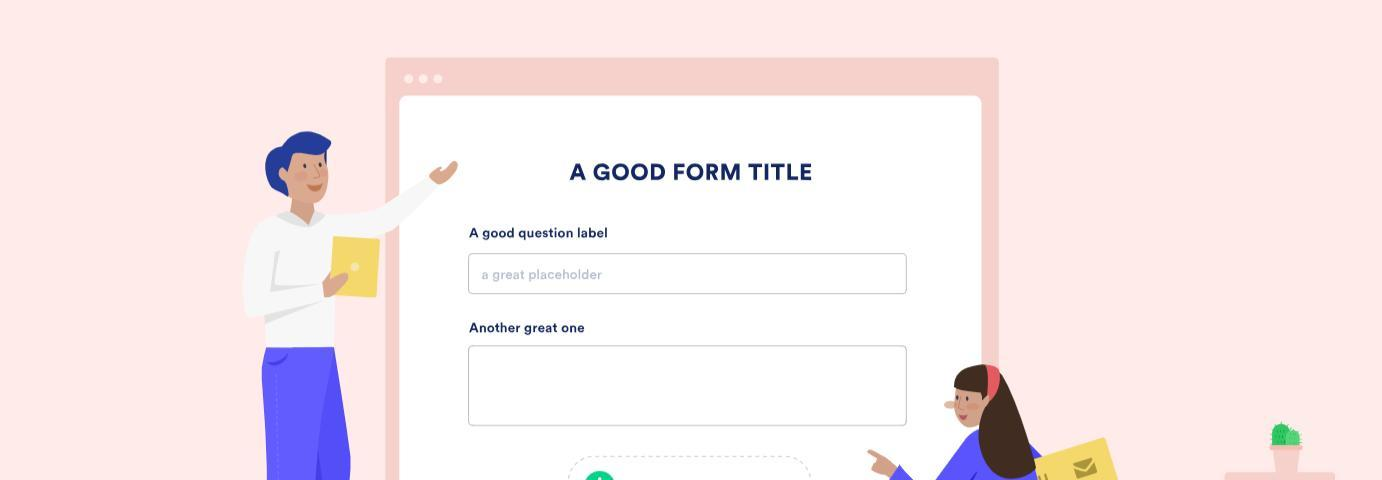input: (468, 256, 908, 297)
label: (469, 219, 610, 243), (460, 316, 591, 339)
